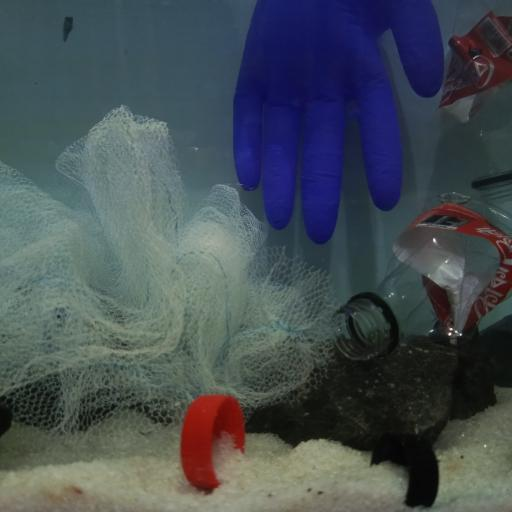bottle_cap: (180, 394, 246, 489), (372, 432, 438, 509)
glove: (233, 0, 444, 244)
net: (0, 101, 339, 454)
plastic_bottle: (334, 192, 512, 360), (438, 20, 512, 205)
